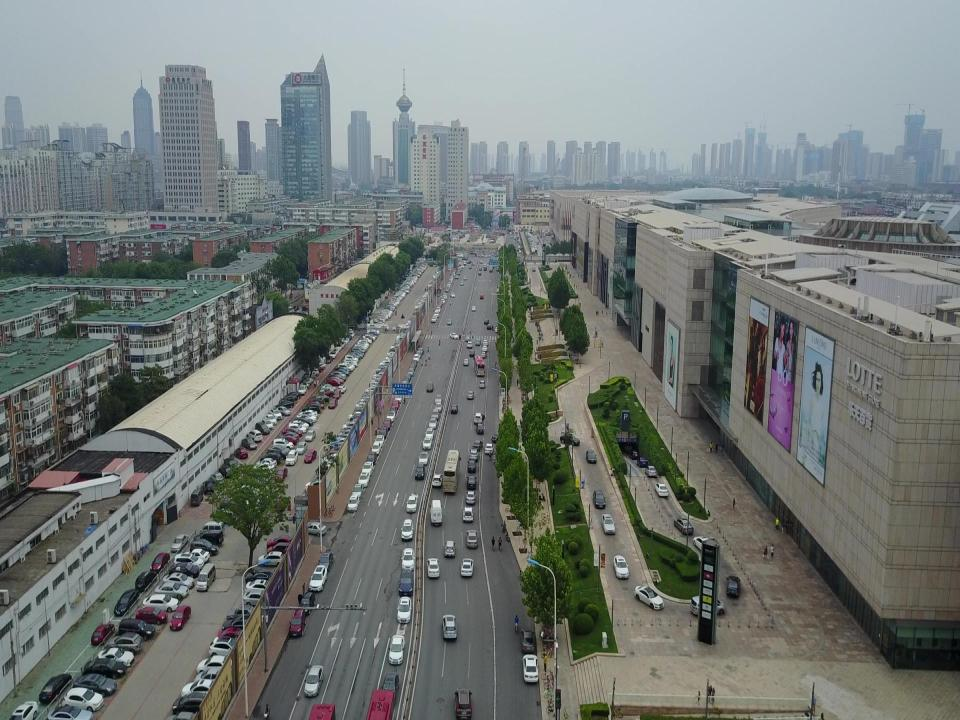bus: (366, 689, 396, 720), (443, 449, 461, 493), (308, 704, 336, 720), (473, 354, 485, 376)
car: (38, 673, 72, 704), (64, 688, 104, 712), (73, 674, 117, 695), (84, 657, 126, 678), (108, 632, 144, 654), (634, 585, 664, 610), (98, 648, 134, 668), (119, 618, 155, 638), (143, 594, 179, 613), (303, 666, 324, 698), (172, 692, 209, 710), (8, 700, 40, 720), (209, 635, 239, 656), (48, 706, 93, 720), (114, 590, 138, 616), (454, 688, 472, 720), (381, 672, 399, 704), (136, 607, 168, 625), (181, 679, 219, 694), (189, 538, 219, 557), (170, 605, 191, 631), (163, 572, 195, 589), (196, 656, 232, 671), (309, 564, 327, 593), (155, 582, 187, 598), (522, 654, 539, 684), (91, 624, 114, 646), (388, 635, 404, 665), (289, 609, 306, 636), (174, 553, 204, 568), (135, 570, 157, 590), (169, 562, 199, 576), (257, 551, 283, 567), (442, 615, 458, 640), (150, 551, 170, 571), (694, 535, 716, 553), (245, 580, 273, 594), (217, 628, 245, 642), (194, 667, 224, 680), (613, 554, 629, 578), (243, 589, 265, 606), (399, 570, 413, 596), (171, 533, 189, 553), (300, 592, 316, 614), (164, 711, 203, 720), (397, 598, 411, 623), (522, 628, 536, 652), (227, 606, 255, 618), (222, 617, 250, 629), (186, 549, 210, 563), (246, 570, 273, 582), (306, 521, 326, 537), (673, 517, 693, 533), (318, 550, 333, 570), (266, 536, 293, 547), (400, 519, 414, 540), (601, 513, 615, 534), (267, 542, 291, 554), (426, 558, 440, 578), (726, 576, 740, 596), (402, 548, 414, 571), (560, 432, 580, 445), (272, 438, 294, 449), (268, 445, 290, 456), (241, 436, 257, 451), (224, 456, 240, 471), (592, 491, 606, 508), (465, 530, 478, 548), (346, 495, 360, 511), (260, 452, 282, 462), (405, 495, 417, 513), (461, 558, 473, 576), (218, 463, 232, 478), (247, 429, 263, 442), (444, 541, 456, 558), (256, 459, 278, 468), (211, 472, 225, 486), (654, 483, 668, 497), (358, 471, 370, 487), (352, 483, 364, 499), (462, 507, 474, 523), (274, 468, 288, 481), (303, 450, 317, 463), (293, 418, 313, 427), (289, 420, 309, 429), (282, 427, 302, 436), (286, 450, 298, 465), (255, 422, 270, 434), (309, 400, 325, 411), (304, 404, 320, 415), (252, 463, 274, 471), (288, 424, 307, 433), (235, 446, 248, 459), (586, 449, 598, 463), (297, 415, 317, 423), (296, 442, 308, 455), (261, 417, 273, 430), (361, 461, 373, 474), (342, 420, 357, 430), (331, 372, 347, 381), (326, 376, 344, 384), (299, 410, 317, 418), (282, 432, 300, 440), (277, 402, 295, 410), (270, 407, 282, 419), (304, 479, 322, 487), (473, 412, 485, 424), (491, 431, 503, 443), (645, 466, 657, 478), (415, 465, 425, 479), (467, 475, 477, 489), (466, 490, 476, 504), (432, 473, 442, 487), (329, 374, 346, 382), (319, 386, 336, 394), (280, 437, 299, 444), (278, 405, 290, 416), (265, 413, 277, 424), (203, 480, 213, 493), (418, 452, 428, 465), (281, 395, 297, 403), (346, 353, 360, 362), (312, 394, 330, 401), (283, 393, 301, 400), (470, 448, 479, 462), (467, 459, 476, 473), (382, 418, 392, 430), (378, 426, 388, 438), (422, 438, 432, 450), (352, 348, 365, 357), (345, 356, 359, 364), (335, 367, 351, 374), (337, 429, 351, 437), (326, 449, 340, 457), (306, 430, 316, 441), (374, 434, 384, 445), (473, 440, 483, 451), (636, 457, 648, 466), (430, 408, 439, 419), (425, 428, 434, 439), (485, 442, 494, 453), (354, 344, 368, 351), (351, 351, 365, 358), (344, 359, 358, 366), (322, 383, 336, 390), (336, 370, 348, 378), (476, 422, 484, 434), (429, 417, 437, 429), (350, 352, 363, 359), (328, 399, 338, 408), (386, 412, 395, 422), (358, 341, 369, 349), (426, 381, 434, 392), (360, 338, 372, 345), (355, 345, 367, 352), (353, 347, 365, 354), (343, 362, 355, 369), (329, 379, 341, 386), (300, 379, 312, 386), (354, 401, 366, 408), (298, 385, 307, 394), (310, 368, 320, 376), (450, 404, 458, 414), (434, 394, 442, 404), (630, 450, 640, 458), (345, 361, 358, 367), (298, 383, 311, 389), (348, 411, 361, 417), (336, 435, 349, 441), (385, 303, 397, 309), (363, 335, 375, 341), (364, 386, 376, 392), (362, 391, 374, 397), (329, 445, 341, 451), (394, 394, 402, 403), (392, 399, 400, 408), (284, 306, 294, 313), (366, 329, 380, 334), (315, 363, 325, 370), (358, 398, 368, 405), (382, 309, 393, 315), (300, 378, 313, 383), (334, 390, 342, 398), (342, 336, 350, 344), (450, 332, 458, 340), (434, 403, 442, 411), (330, 350, 337, 359), (480, 350, 487, 359), (467, 391, 474, 400), (381, 311, 391, 317), (374, 316, 384, 322), (392, 325, 402, 331), (368, 331, 378, 337), (367, 333, 377, 339), (362, 336, 374, 341), (358, 340, 368, 346), (314, 366, 324, 372), (386, 351, 396, 357), (376, 366, 388, 371), (360, 395, 372, 400), (355, 403, 365, 409), (341, 427, 353, 432), (333, 439, 345, 444), (479, 379, 485, 389), (347, 323, 355, 330), (338, 386, 346, 393), (324, 356, 332, 363), (374, 318, 385, 323), (373, 372, 384, 377), (391, 297, 400, 303), (413, 353, 419, 362), (381, 313, 391, 318), (380, 325, 390, 330), (397, 332, 407, 337), (376, 368, 386, 373), (373, 375, 383, 380), (360, 397, 370, 402), (411, 359, 418, 366), (405, 373, 412, 380), (481, 345, 488, 352), (430, 315, 436, 323), (399, 289, 407, 295), (394, 294, 402, 300), (392, 300, 400, 306), (379, 315, 387, 321), (338, 342, 346, 348), (337, 343, 343, 351), (333, 347, 339, 355), (417, 348, 425, 354), (390, 406, 396, 414), (396, 292, 405, 297), (386, 305, 395, 310), (396, 335, 405, 340), (380, 361, 391, 365), (434, 310, 440, 317), (484, 318, 490, 325), (416, 351, 422, 358), (410, 363, 416, 370), (404, 376, 410, 383), (475, 339, 481, 346), (466, 341, 472, 348), (469, 350, 475, 357), (409, 279, 417, 284), (403, 285, 411, 290), (402, 287, 410, 292), (401, 289, 409, 294), (389, 301, 397, 306), (386, 307, 394, 312), (382, 311, 392, 315), (392, 342, 400, 347), (391, 344, 399, 349), (435, 306, 441, 312), (447, 318, 453, 324), (293, 304, 299, 310), (348, 330, 354, 336), (395, 339, 404, 343), (408, 369, 414, 375), (414, 272, 421, 277), (402, 381, 407, 388), (418, 266, 426, 270), (412, 274, 420, 278), (410, 277, 418, 281), (403, 284, 411, 288), (398, 291, 406, 295), (390, 348, 398, 352), (389, 349, 397, 353), (464, 358, 468, 366), (471, 306, 476, 312), (450, 292, 456, 297), (487, 324, 492, 330), (418, 268, 424, 273), (408, 280, 414, 285), (390, 303, 396, 308), (495, 326, 499, 333), (420, 297, 427, 301), (415, 304, 422, 308), (420, 264, 427, 268), (411, 276, 418, 280), (483, 339, 487, 346), (347, 335, 352, 340), (485, 254, 491, 258), (480, 293, 484, 299), (441, 298, 445, 304), (436, 268, 442, 272), (432, 275, 440, 278), (434, 276, 440, 280), (428, 283, 434, 287), (424, 292, 430, 296), (419, 301, 425, 305), (406, 282, 412, 286), (466, 334, 470, 340), (496, 266, 500, 271), (478, 271, 482, 276), (468, 264, 472, 269), (464, 254, 468, 259), (463, 275, 467, 280), (460, 280, 464, 285), (445, 287, 449, 292), (442, 295, 447, 299), (438, 303, 442, 308), (422, 294, 427, 298), (416, 270, 421, 274), (462, 257, 468, 260), (457, 254, 463, 257), (457, 269, 460, 275), (436, 271, 442, 274), (487, 259, 491, 263), (472, 262, 476, 266), (460, 264, 464, 268), (458, 266, 462, 270), (496, 288, 500, 292), (451, 272, 455, 276), (451, 274, 455, 278), (450, 274, 454, 278), (449, 277, 453, 281), (446, 285, 450, 289), (442, 292, 446, 296), (439, 300, 443, 304), (407, 272, 411, 276), (484, 266, 487, 271), (479, 266, 482, 270), (479, 260, 483, 263), (458, 262, 461, 266), (455, 275, 459, 278), (452, 269, 456, 272), (447, 281, 451, 284), (484, 263, 486, 268)
truck: (624, 442, 632, 452)
van: (690, 594, 726, 615), (196, 564, 216, 592), (198, 530, 224, 546), (429, 499, 443, 526), (201, 520, 224, 535), (190, 488, 203, 505), (338, 363, 351, 374), (367, 451, 377, 464), (372, 441, 380, 455), (312, 397, 325, 405), (304, 371, 316, 379), (366, 323, 376, 330), (370, 382, 378, 388), (490, 265, 493, 272), (404, 274, 408, 279), (408, 268, 412, 272), (463, 260, 466, 265)
